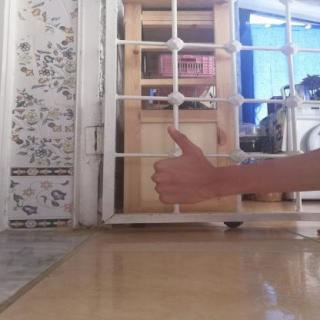ALIF: (135, 117, 228, 211)
